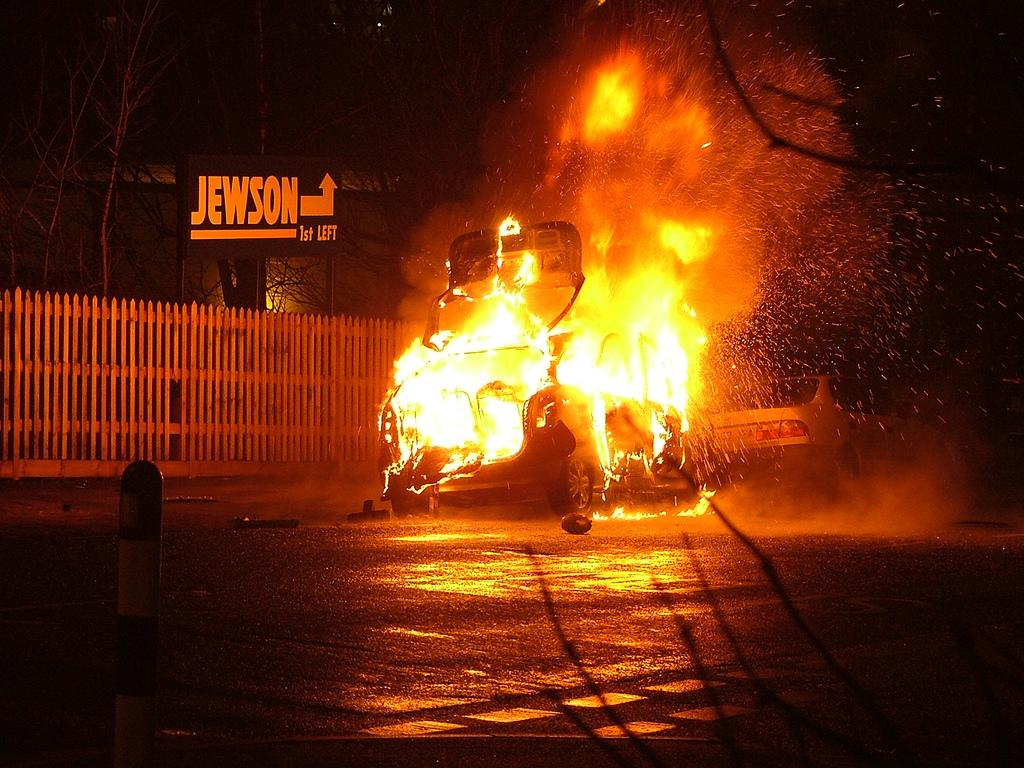fire: (400, 344, 514, 452), (576, 348, 688, 402), (612, 280, 696, 342)
